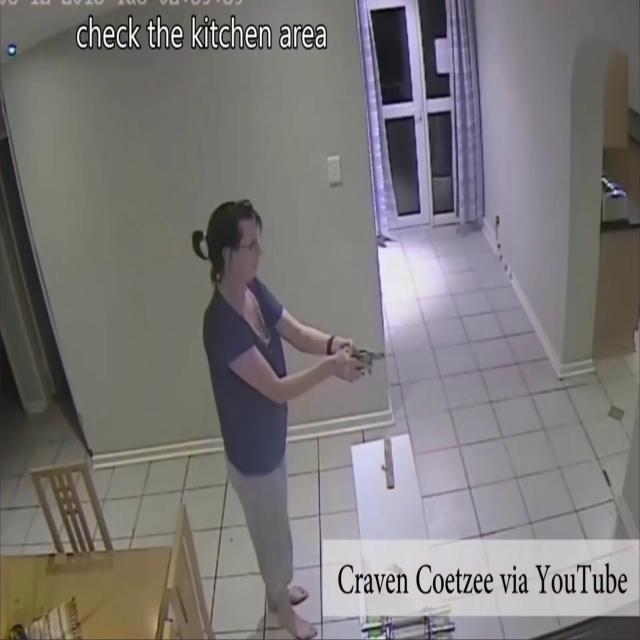gun: (346, 344, 386, 378)
